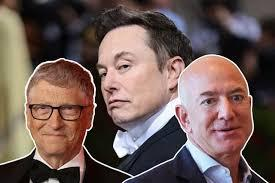Persons: (83, 0, 198, 121), (177, 47, 258, 166), (23, 52, 100, 166)
